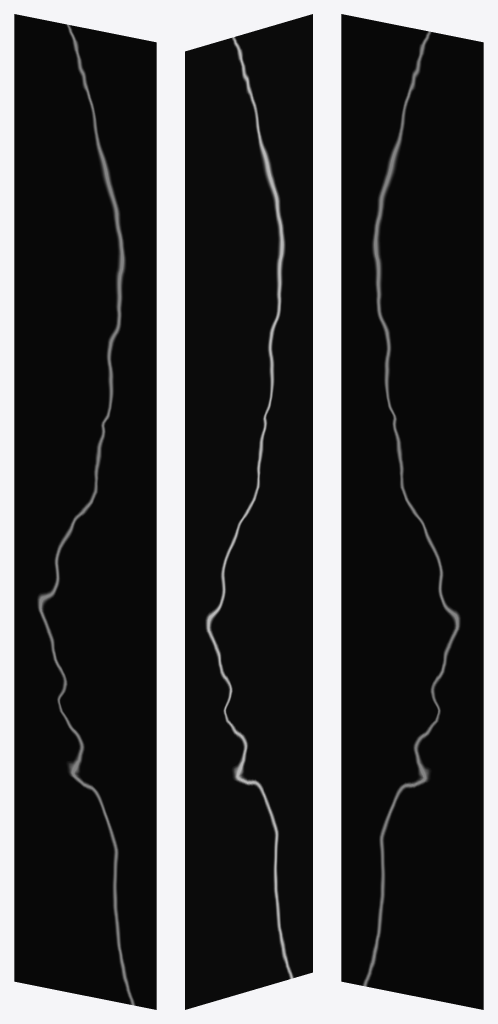
File: LightningMesh_C.fbx
The picture shows the model from 3 angles, left to right: view 1: azimuth 90°, elevation 25°; view 2: azimuth 150°, elevation 25°; view 3: azimuth 270°, elevation 25°; orthographic projection.
Parts seen in each view (by area): view 1: LightningMesh_C; view 2: LightningMesh_C; view 3: LightningMesh_C.
Part boxes in pixels (bbox=[...]): LightningMesh_C: bbox=[14, 14, 156, 1009]; LightningMesh_C: bbox=[185, 14, 312, 1009]; LightningMesh_C: bbox=[341, 14, 483, 1009].
Bounding box in the file's own units: 0.0628 × 1 × 0.1331.
